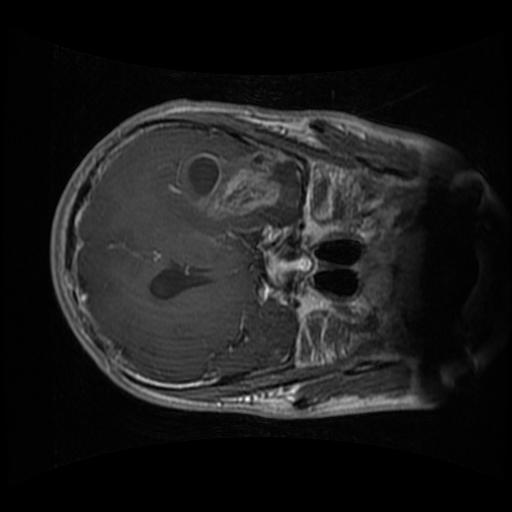glioma: (173, 147, 295, 221)
